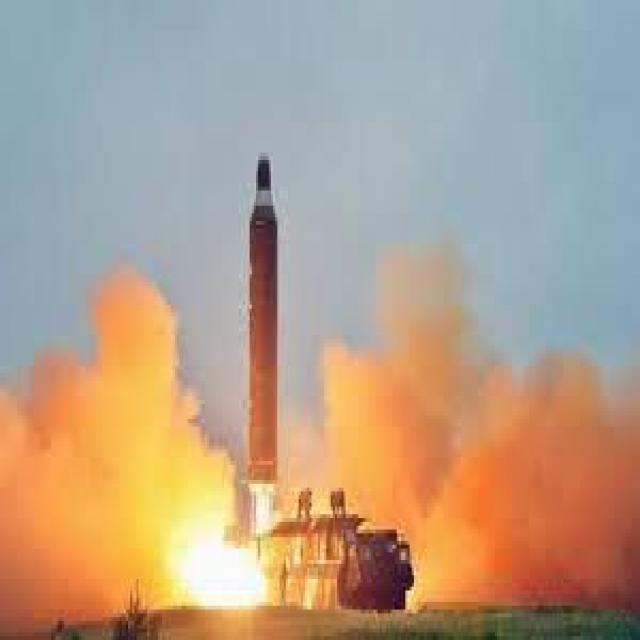rocket: (238, 152, 285, 564)
